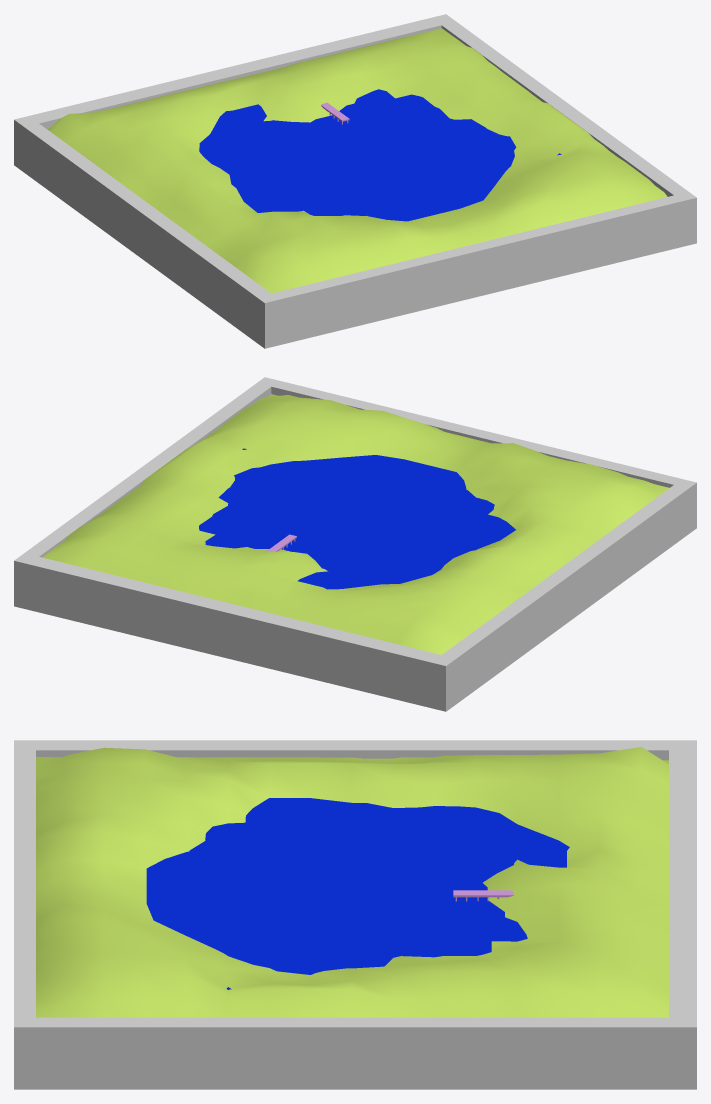
The model's file is lake.fbx.
The picture shows the model from 3 angles, top to bottom: view 1: azimuth 30°, elevation 25°; view 2: azimuth 150°, elevation 25°; view 3: azimuth 270°, elevation 25°; orthographic projection. The views are drawn at different scales.
Parts seen in each view (by area): view 1: Plane, Cube, Plane.001; view 2: Plane, Cube, Plane.001; view 3: Plane, Cube, Plane.001.
Boxes of the visible parts, bbox=[...] form: Plane: bbox=[47, 28, 667, 293]; Cube: bbox=[14, 14, 696, 348]; Plane.001: bbox=[199, 89, 561, 221]; Plane: bbox=[42, 394, 669, 654]; Cube: bbox=[14, 377, 696, 711]; Plane.001: bbox=[199, 448, 515, 589]; Plane: bbox=[36, 747, 668, 1017]; Cube: bbox=[14, 740, 696, 1089]; Plane.001: bbox=[146, 798, 569, 989].
Size of the model in its own units: 181 by 23.57 by 182.
